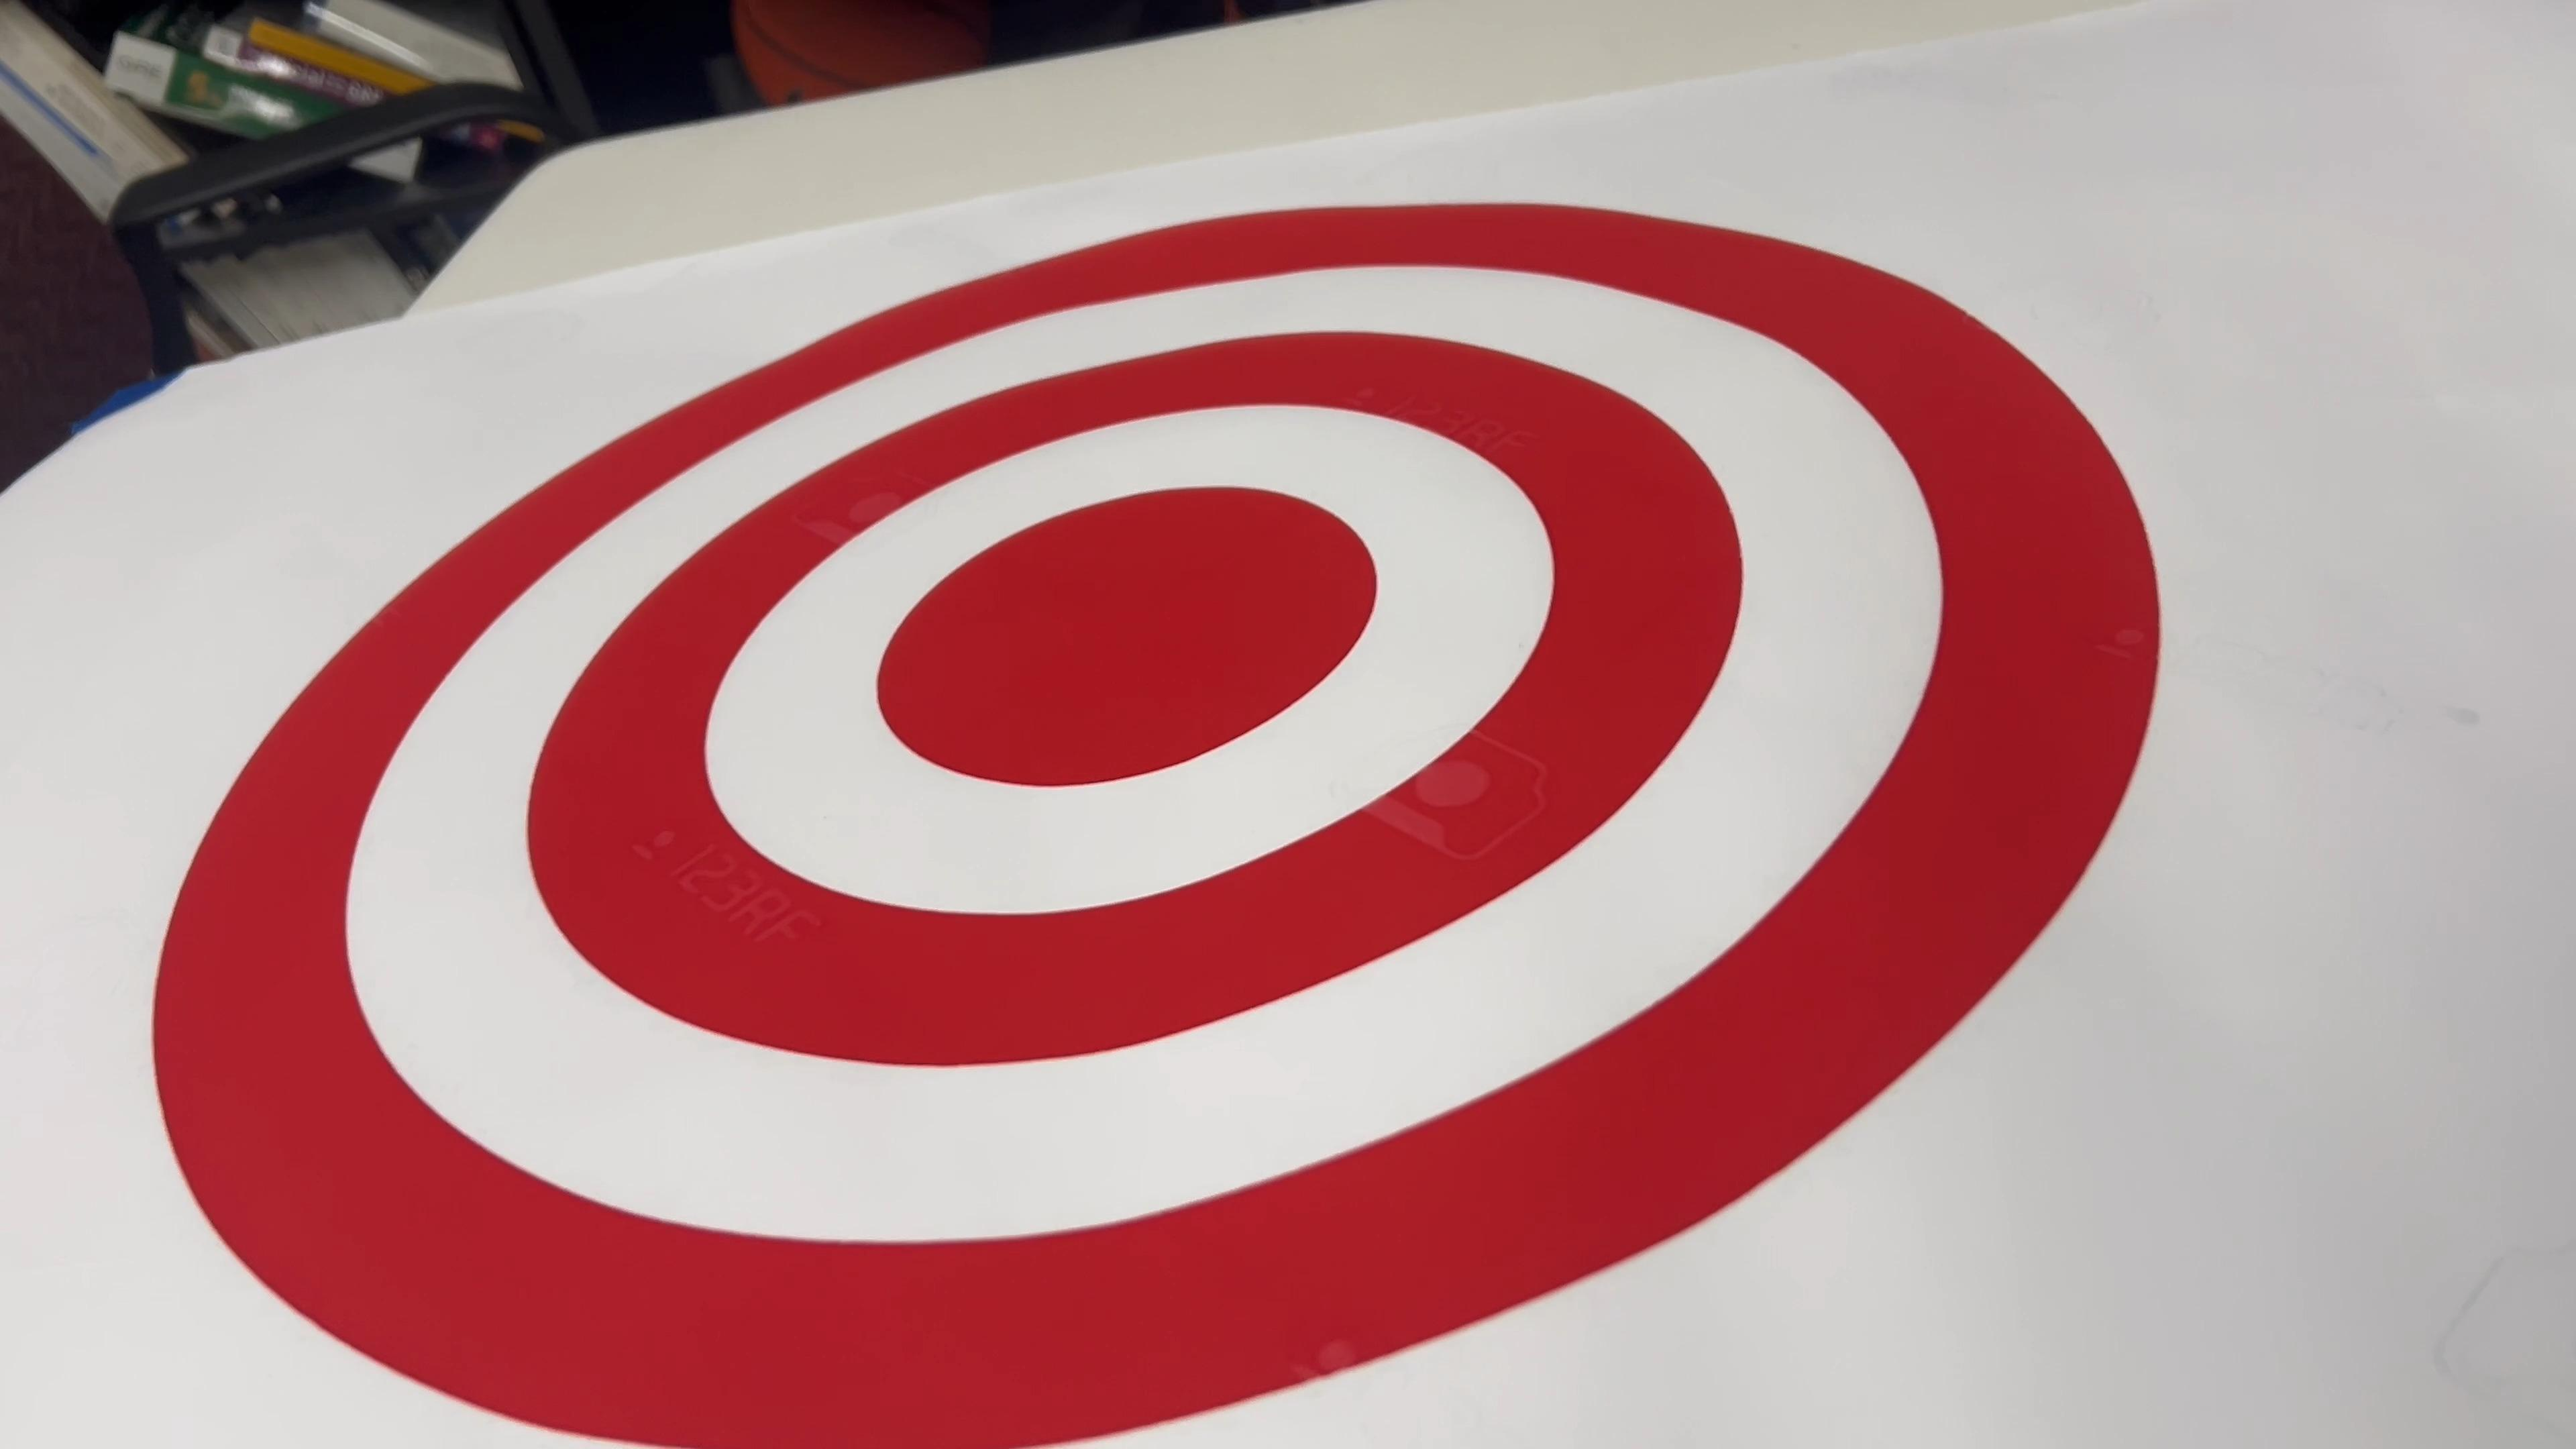target_red: (104, 168, 2197, 1449)
